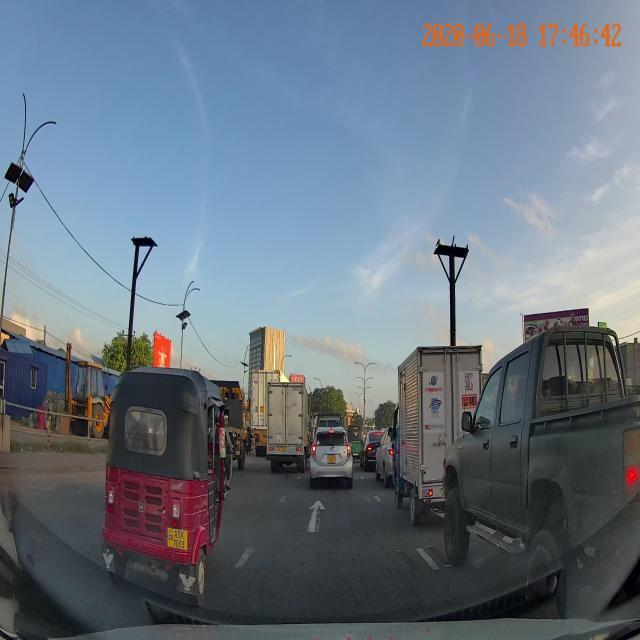forward: (259, 496, 404, 533)
